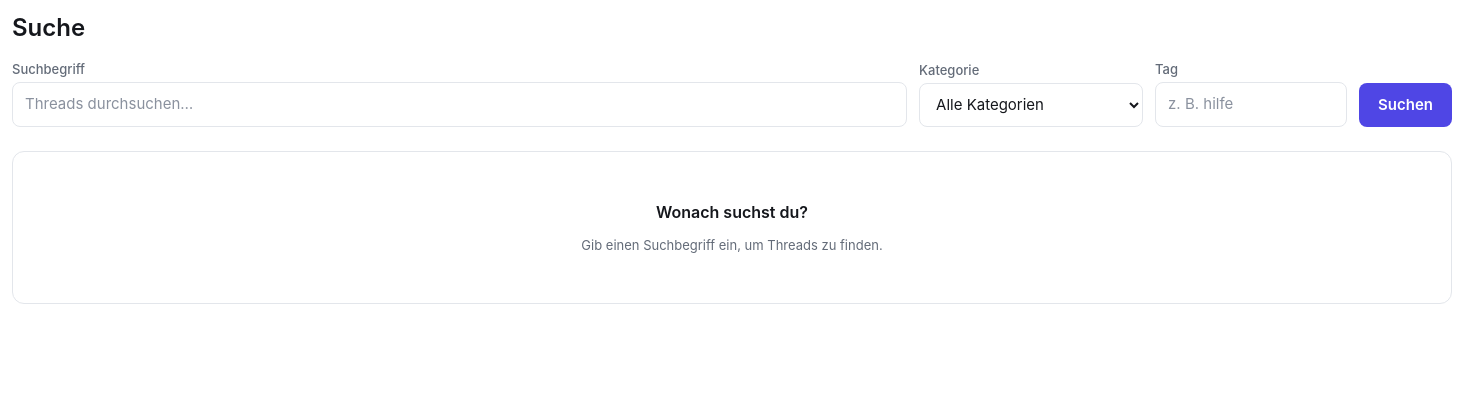
Test: SearchPage › shows the hits after a query is typed
In the search field: (460, 104) x1=12 y1=82 x2=907 y2=126, type "react"
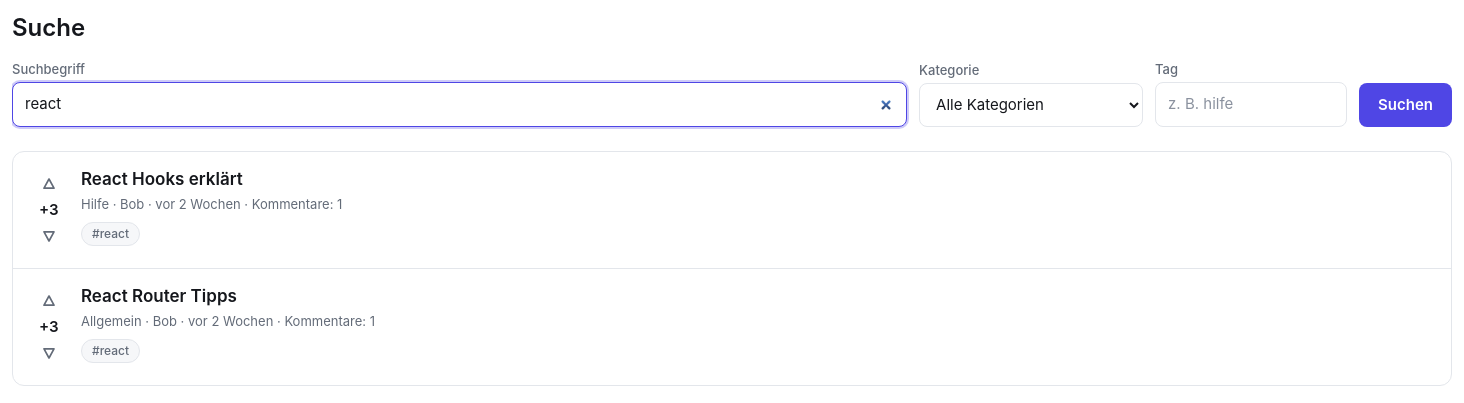
Result: the number of list items with test id "search-result" is 2 at x1=33 y1=168 x2=342 y2=252; x1=13 y1=268 x2=1451 y2=384
